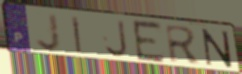E: (131, 19, 167, 65)
I: (70, 15, 83, 55)
J: (35, 12, 63, 53), (104, 19, 130, 59)
N: (201, 28, 234, 70)
R: (163, 23, 203, 65)
